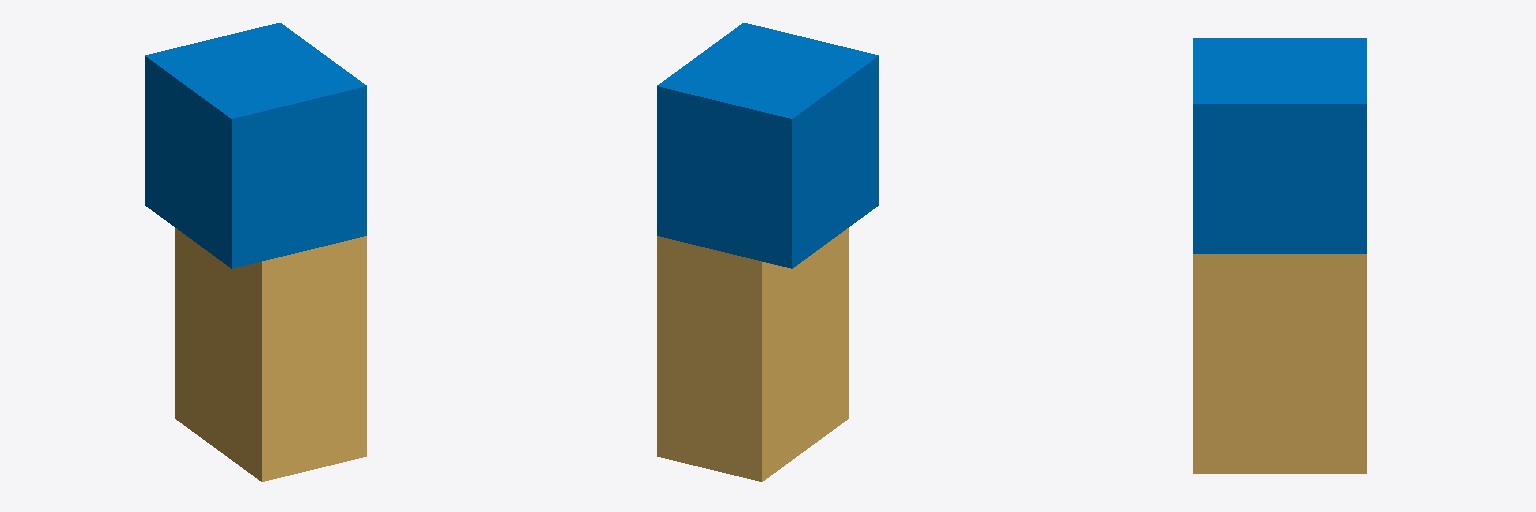
The picture shows the model from 3 angles: view 1: azimuth 30°, elevation 25°; view 2: azimuth 150°, elevation 25°; view 3: azimuth 270°, elevation 25°; orthographic projection.
Visible parts, largest first — view 1: object 1; view 2: object 1; view 3: object 1.
Boxes of the visible parts, <box> form: object 1: <box>145,23,366,481</box>; object 1: <box>657,23,878,481</box>; object 1: <box>1193,38,1366,473</box>.
Size of the model in its own units: 1.8 by 4.7 by 2.
1 materials, 1 textured.